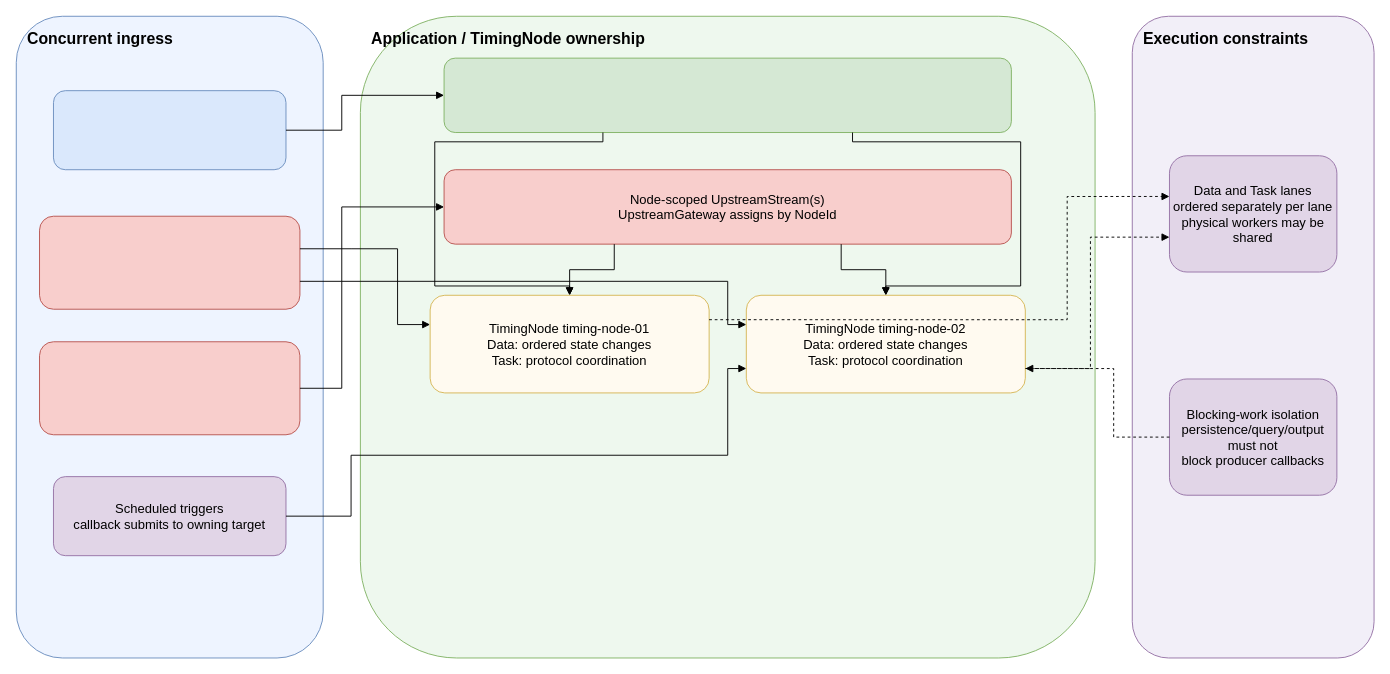
Image size: 1390x674. Some labels were removed from this diagram. Here are the shapes that lost their labels. From the top down, the centre of each, then its label:
At point (727, 95): "PresentationGateway presentation commands / queries".
At point (169, 130): "Operator / presentation ingress HTTP • shell • console".
At point (169, 262): "Device ingress Antenna • Device Networks".
At point (169, 388): "Messaging / UpstreamGateway upstream transport boundary".
